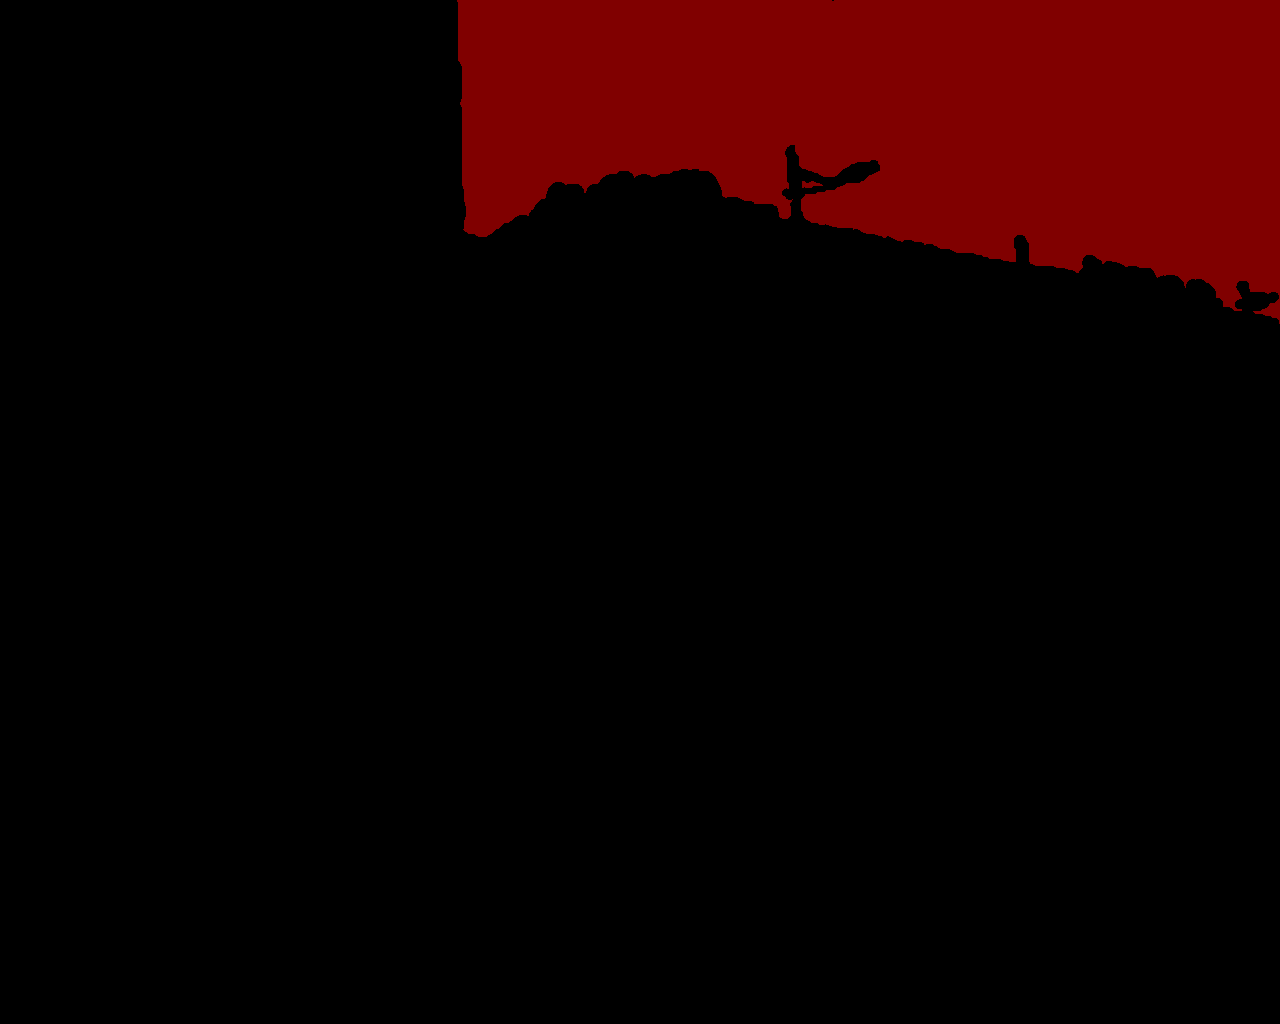Sky: (458, 1, 1279, 324)
